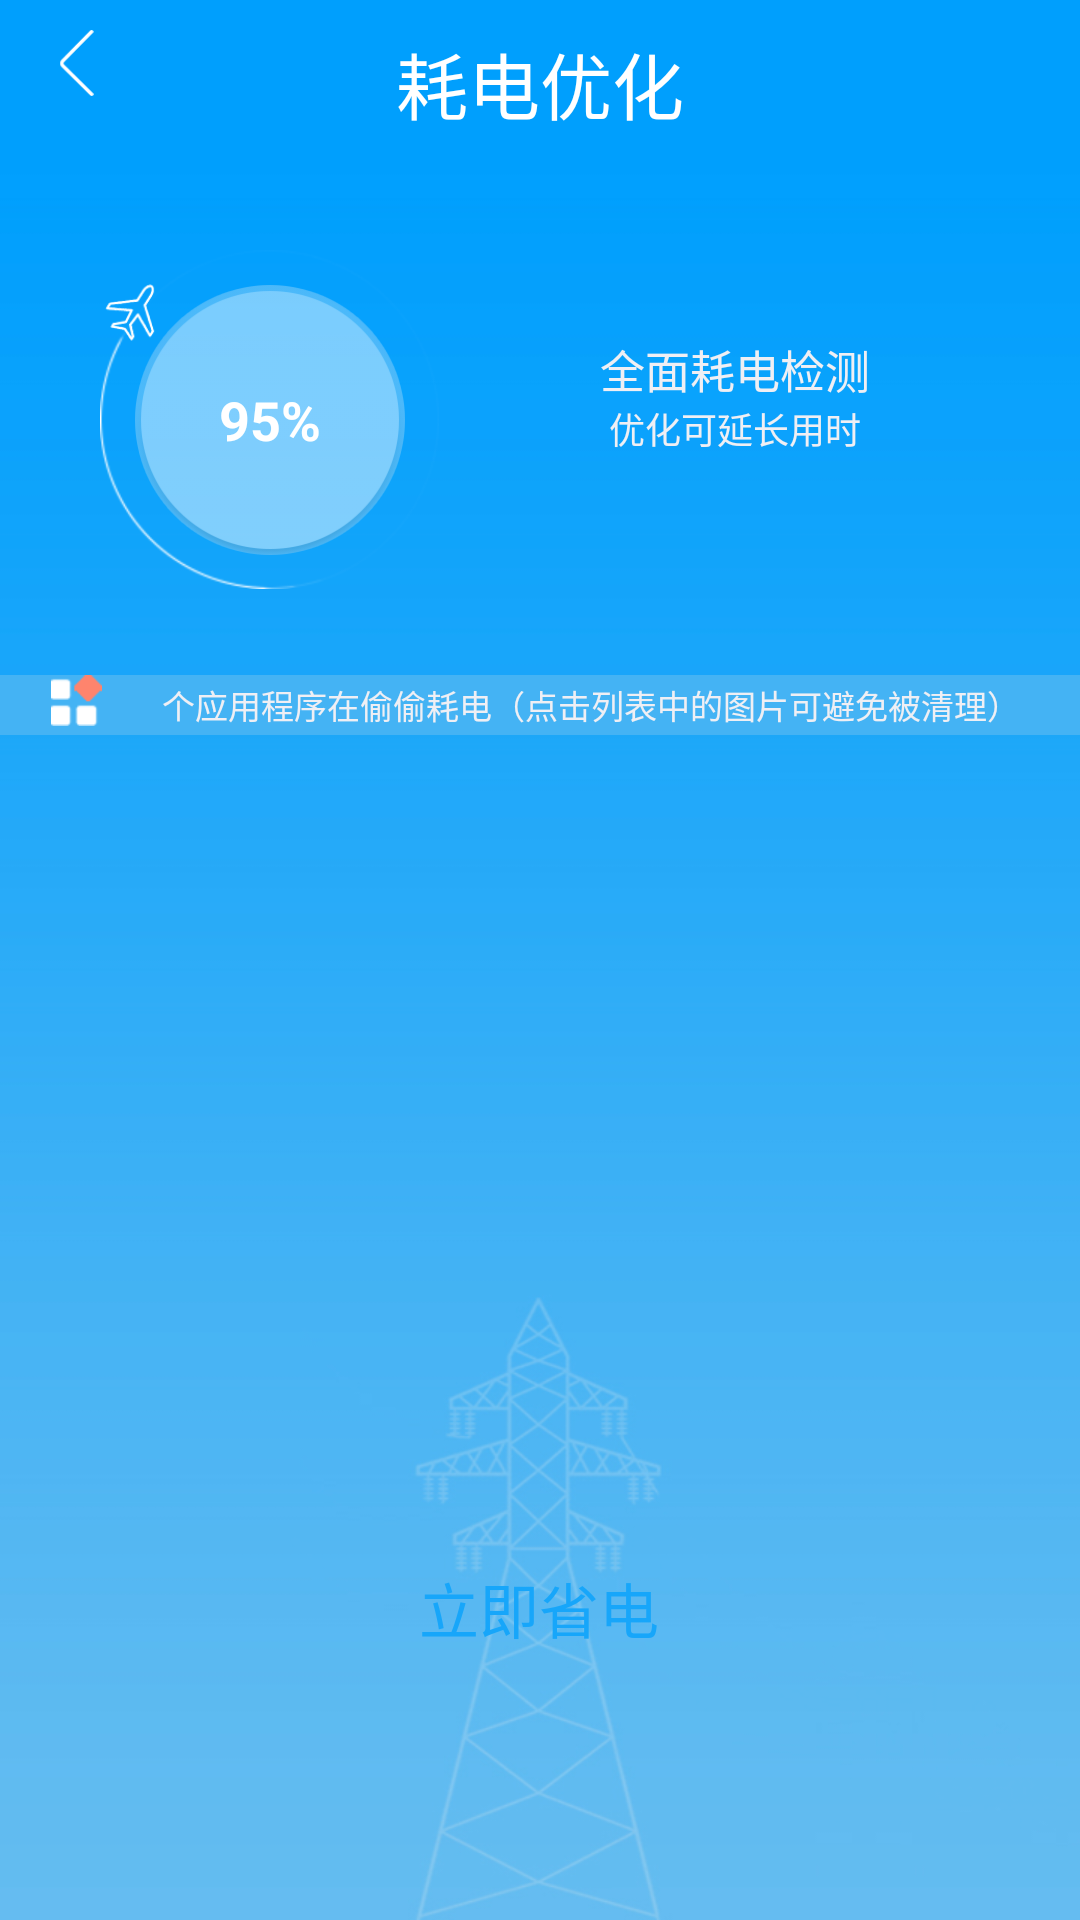

Where icons sit on this 1080×1920 app screen, as (x1, y1, x2, y2):
back: (60, 30, 94, 96)
power optimize application: (51, 679, 97, 726)
power optimize circle: (100, 284, 405, 589)
